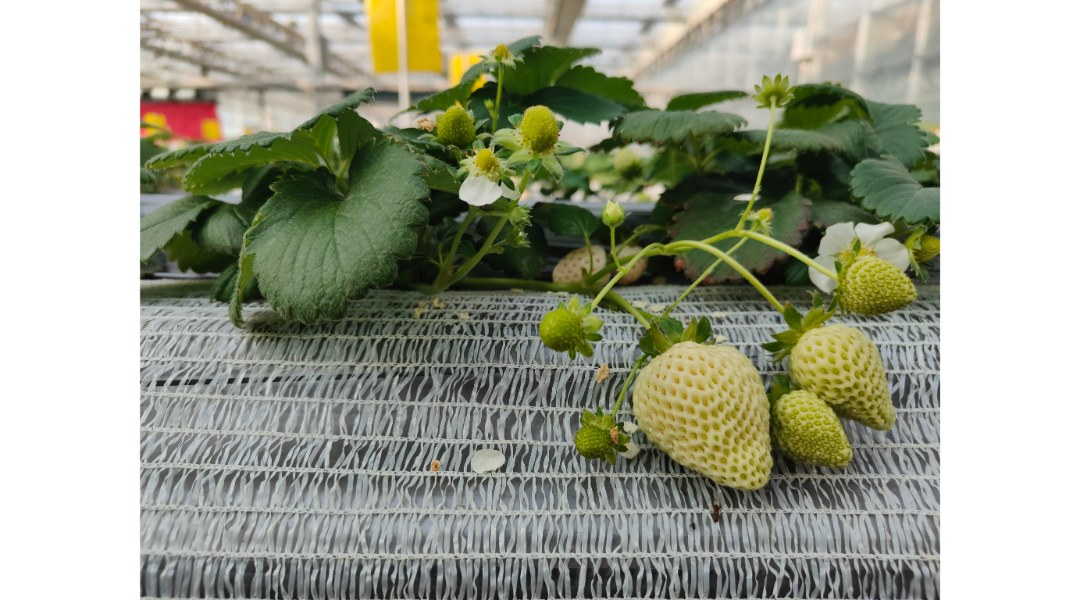berry: (633, 327, 775, 497), (782, 304, 910, 437), (832, 246, 917, 326), (781, 393, 855, 470), (528, 297, 601, 365), (510, 103, 564, 167), (743, 67, 803, 120), (568, 414, 622, 470)
flower: (798, 219, 911, 307), (454, 154, 507, 216)
strain: (743, 117, 780, 225), (733, 261, 776, 304)
